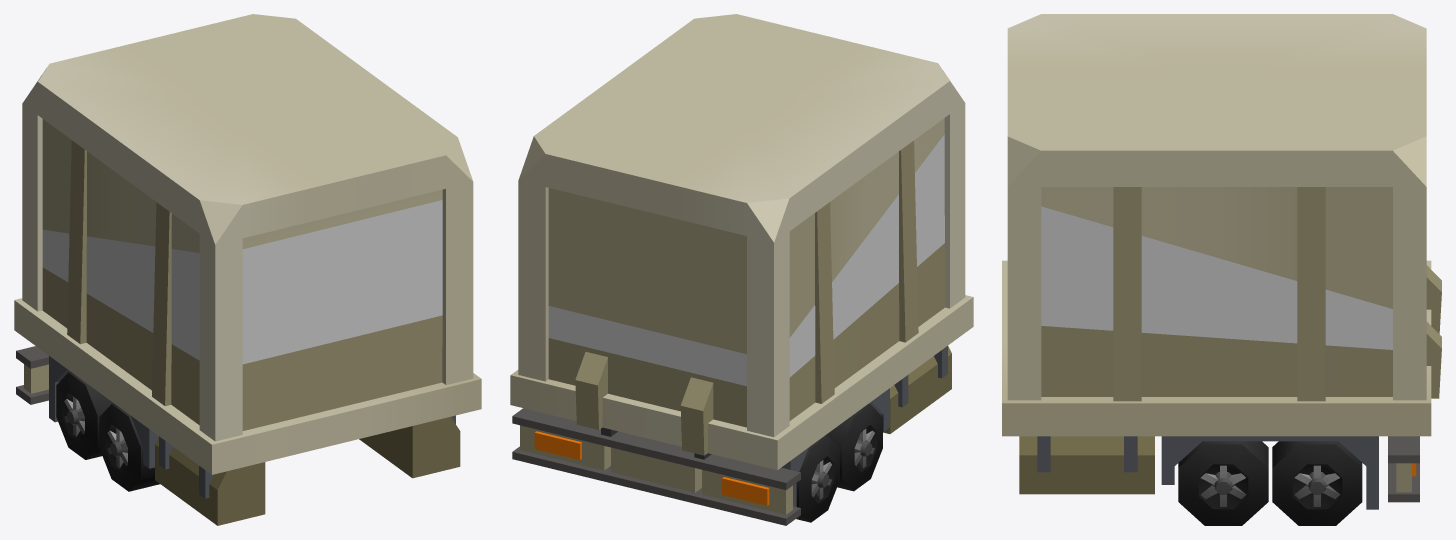
The model's file is cargo_02_C_1.fbx.
3 views of the same model, side by side, from view 1: azimuth 30°, elevation 25°; view 2: azimuth 150°, elevation 25°; view 3: azimuth 270°, elevation 25° (orthographic). The views are drawn at different scales.
Parts seen in each view (by area): view 1: cargo_02_C_1; view 2: cargo_02_C_1; view 3: cargo_02_C_1.
Part boxes in pixels (<box>): cargo_02_C_1: <box>14,14,481,525</box>; cargo_02_C_1: <box>510,14,973,525</box>; cargo_02_C_1: <box>1002,14,1441,525</box>.
Bounding box in the file's own units: 1327 × 1594 × 1684.
